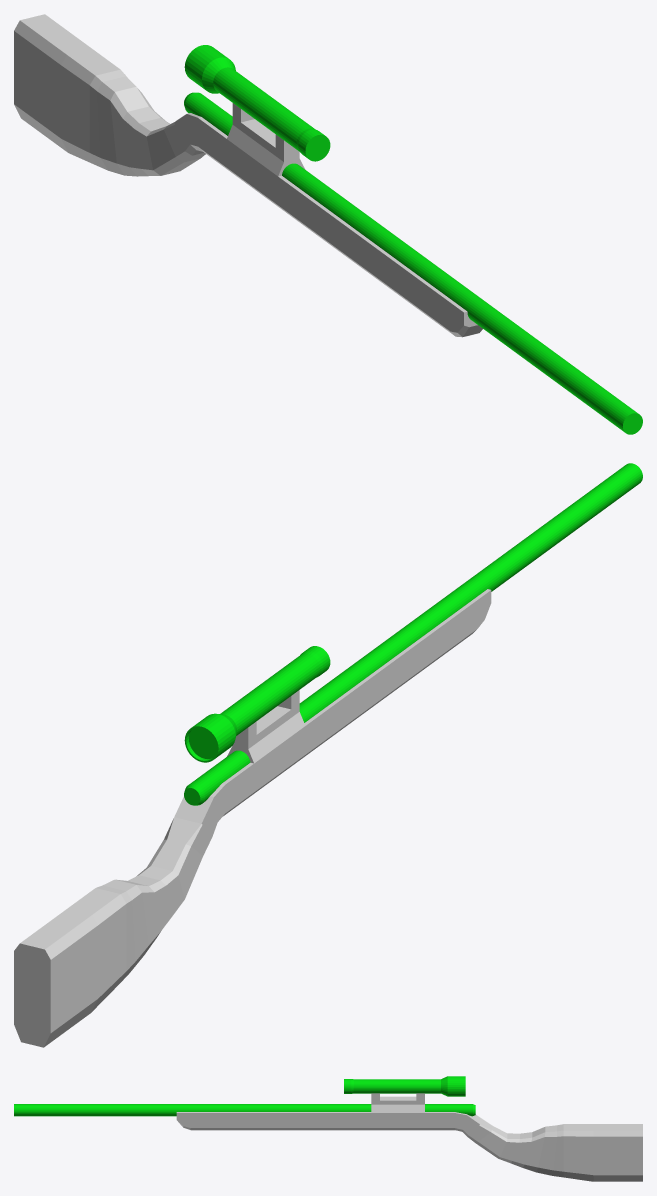
Rendered from Sniper Draft.fbx.
3 renders of one model, top to bottom at view 1: azimuth 30°, elevation 25°; view 2: azimuth 150°, elevation 25°; view 3: azimuth 270°, elevation 25°, orthographic. The views are drawn at different scales.
Parts seen in each view (by area): view 1: Cube.003; view 2: Cube.003; view 3: Cube.003.
Boxes of the visible parts, x1=… form: Cube.003: x1=14, y1=14, x2=642, y2=434; Cube.003: x1=14, y1=463, x2=642, y2=1047; Cube.003: x1=14, y1=1076, x2=642, y2=1181.
Size of the model in its own units: 32.01 by 161 by 904.
